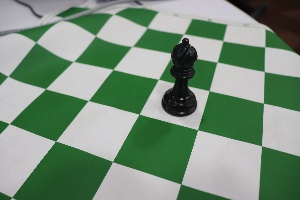black_bishop: (159, 33, 205, 122)
